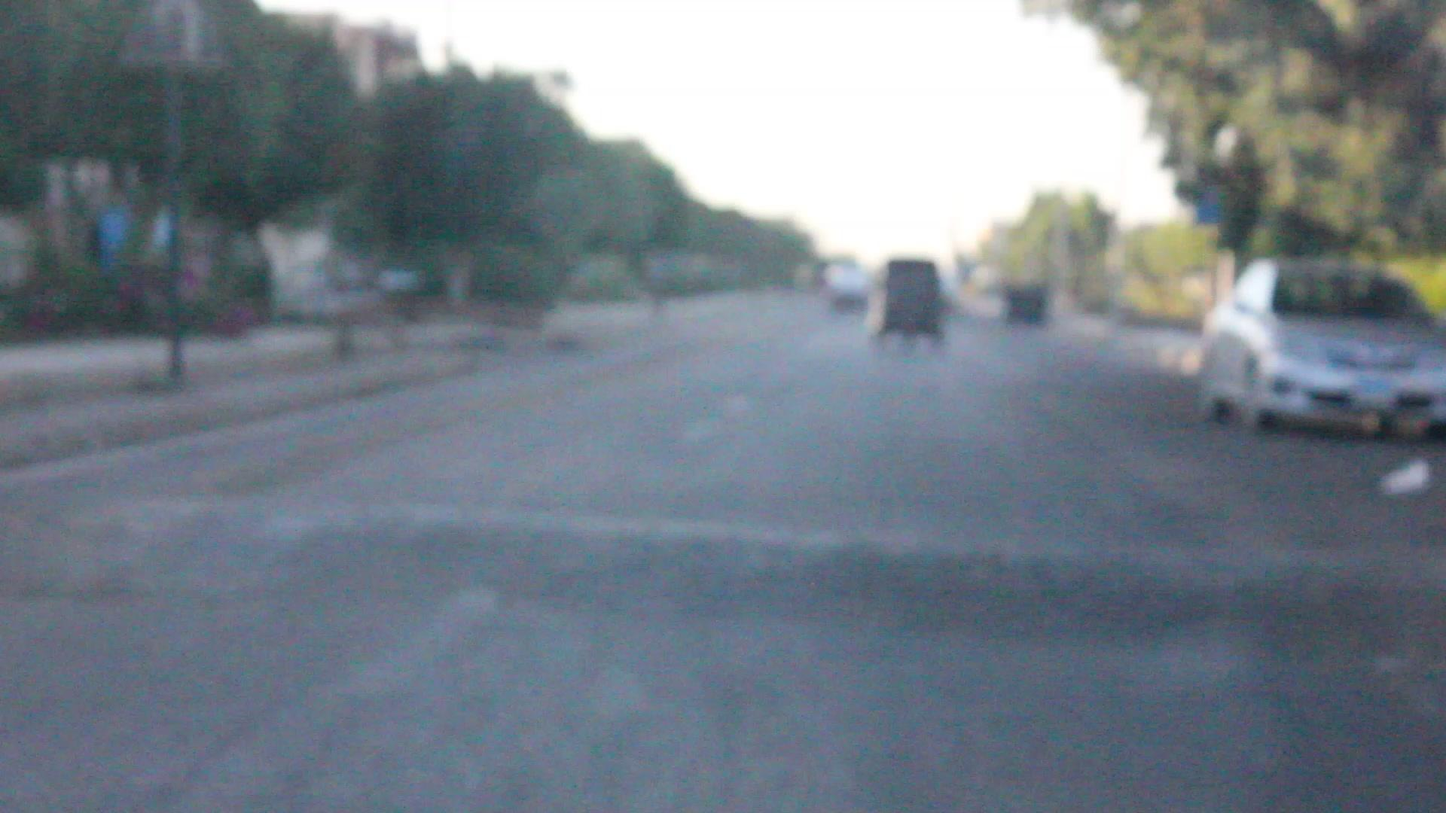Bump: (113, 487, 1427, 664)
